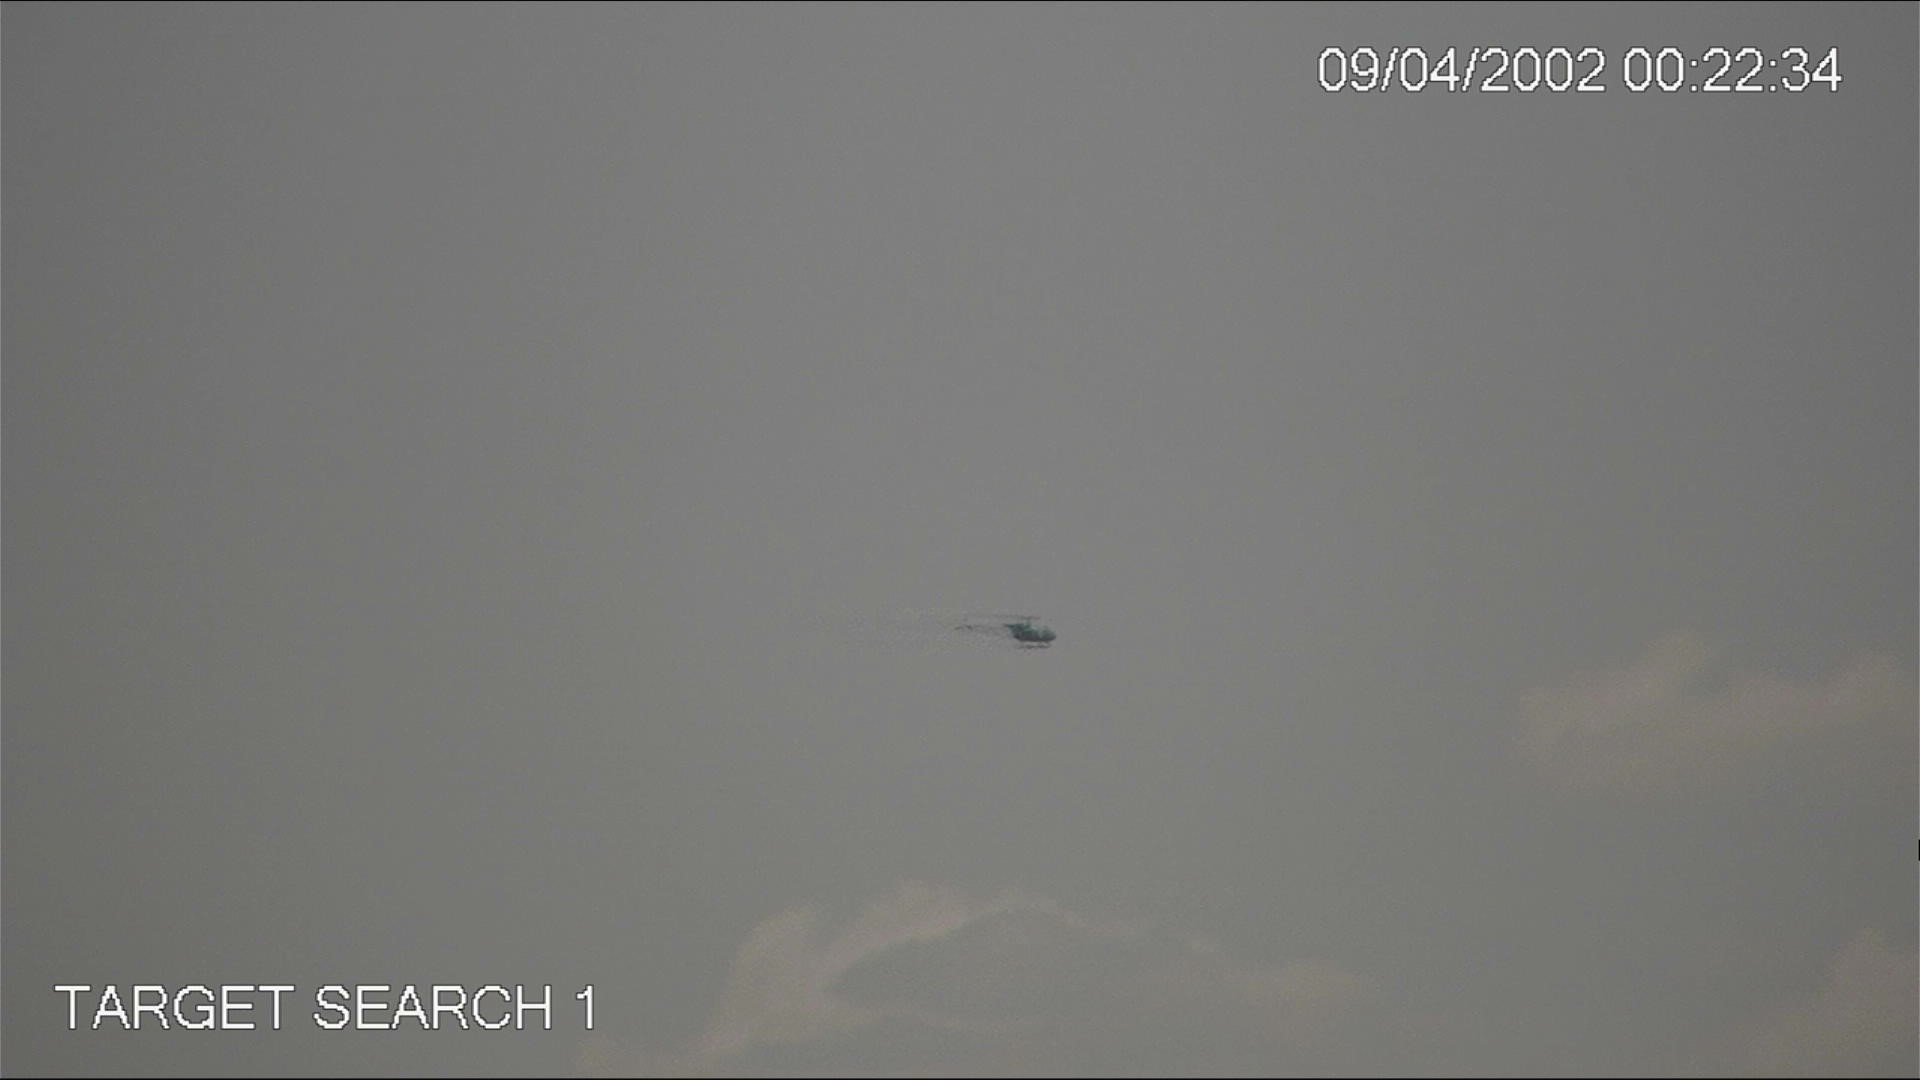SU_30: (945, 603, 1052, 651)
